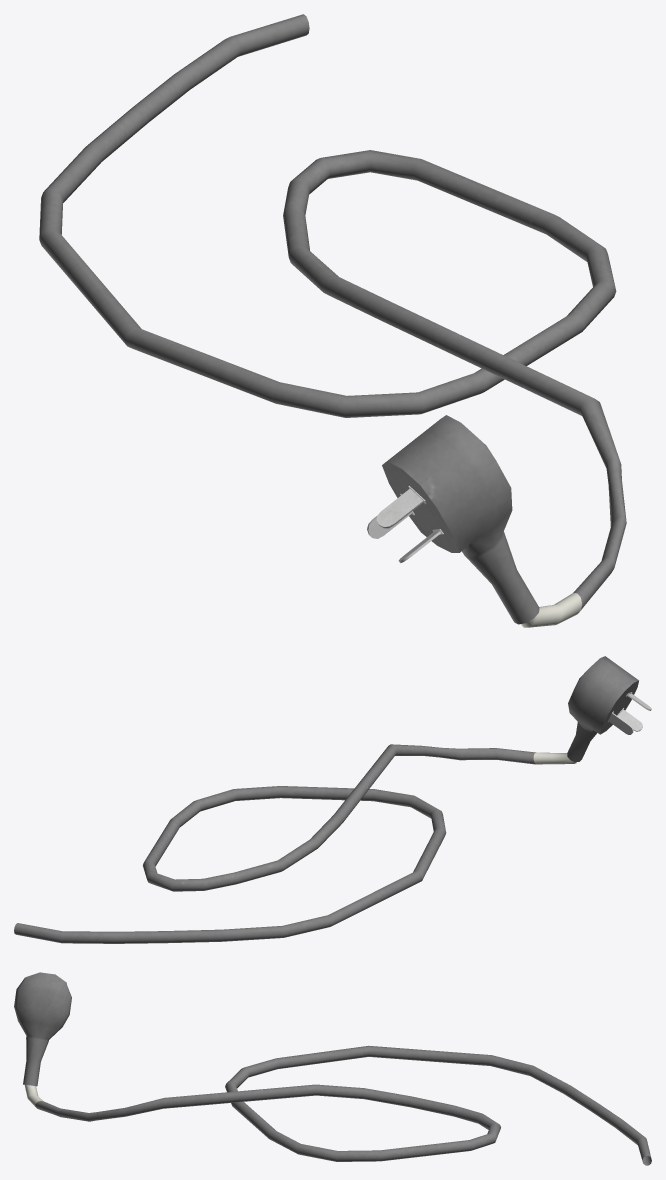
The model's file is SM_微波消解仪_插头插上.FBX.
3 renders of one model, top to bottom at view 1: azimuth 30°, elevation 25°; view 2: azimuth 150°, elevation 25°; view 3: azimuth 270°, elevation 25°, orthographic. The views are drawn at different scales.
Visible parts, largest first — view 1: SM_微波消解仪_插头插上; view 2: SM_微波消解仪_插头插上; view 3: SM_微波消解仪_插头插上.
Part boxes in pixels (bbox=[...]): SM_微波消解仪_插头插上: bbox=[39, 14, 626, 627]; SM_微波消解仪_插头插上: bbox=[14, 656, 651, 943]; SM_微波消解仪_插头插上: bbox=[14, 972, 651, 1165].
Size of the model in its own units: 159 by 61.92 by 326.
